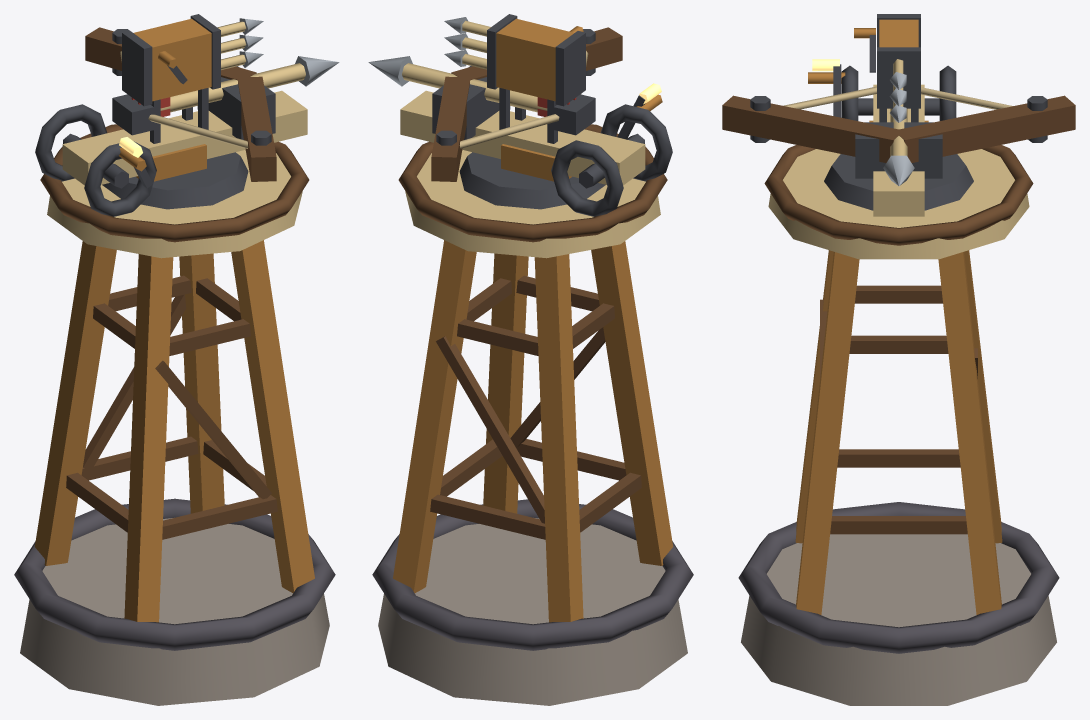
Rendered from tower_ballista_repeater.glb.
The picture shows the model from 3 angles, left to right: view 1: azimuth 30°, elevation 25°; view 2: azimuth 150°, elevation 25°; view 3: azimuth 270°, elevation 25°; orthographic projection.
Visible parts, largest first — view 1: base, leg_wn, base_rim, leg_en, leg_ws, deck, leg_es, deck_rim, stock, magazine, turret_ring, bow_arm_l (+22 smaller); view 2: base, leg_ws, base_rim, leg_es, leg_wn, deck, leg_en, deck_rim, stock, magazine, turret_ring, brace_b (+22 smaller); view 3: base, base_rim, deck, leg_en, leg_es, deck_rim, bow_arm_l, bow_arm_r, turret_ring, stock, ring_e_0.21, bow_mount (+13 smaller).
Boxes of the visible parts, x1,y1,x2,y2 form: base: (20, 518, 329, 705); leg_wn: (124, 254, 173, 622); base_rim: (14, 498, 335, 650); leg_en: (231, 240, 314, 592); leg_ws: (34, 241, 116, 565); deck: (47, 150, 302, 258); leg_es: (179, 253, 224, 513); deck_rim: (40, 124, 309, 242); stock: (62, 90, 307, 185); magazine: (134, 18, 211, 101); turret_ring: (102, 152, 248, 209); bow_arm_l: (237, 76, 276, 181); base: (378, 518, 687, 705); leg_ws: (534, 254, 583, 622); base_rim: (372, 499, 693, 650); leg_es: (393, 240, 476, 592); leg_wn: (591, 241, 673, 565); deck: (405, 150, 660, 258); leg_en: (483, 253, 528, 513); deck_rim: (398, 124, 667, 242); stock: (400, 90, 645, 185); magazine: (496, 18, 573, 101); turret_ring: (459, 152, 605, 209); brace_b: (436, 336, 544, 523); base: (741, 534, 1056, 705); base_rim: (738, 502, 1059, 653); deck: (768, 149, 1029, 259); leg_en: (796, 252, 859, 614); leg_es: (938, 252, 1001, 614); deck_rim: (764, 145, 1033, 245); bow_arm_l: (722, 95, 903, 162); bow_arm_r: (894, 95, 1075, 162); turret_ring: (824, 154, 973, 210); stock: (873, 84, 924, 216); ring_e_0.21: (830, 516, 967, 534); bow_mount: (855, 122, 942, 178).
Bounding box in the file's own units: 0.4435 × 0.848 × 0.4469.
